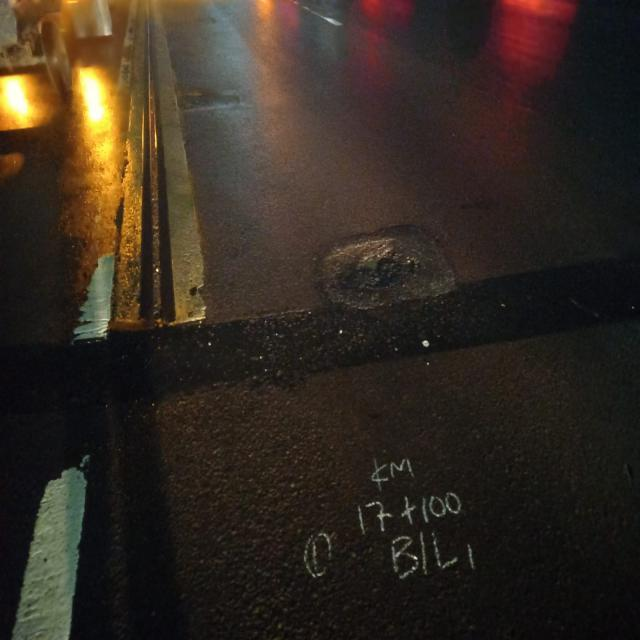Buraco: (320, 235, 430, 308), (172, 80, 244, 114)
